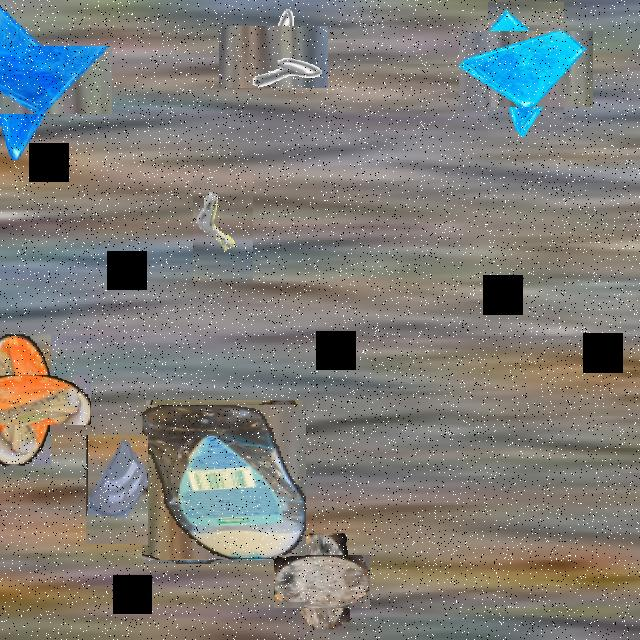glass: (473, 17, 579, 122), (0, 23, 90, 136), (86, 436, 148, 546)
metal: (230, 14, 316, 100), (193, 176, 253, 283)
plastic: (144, 402, 304, 562), (0, 354, 71, 445)
wood: (284, 544, 360, 619)
